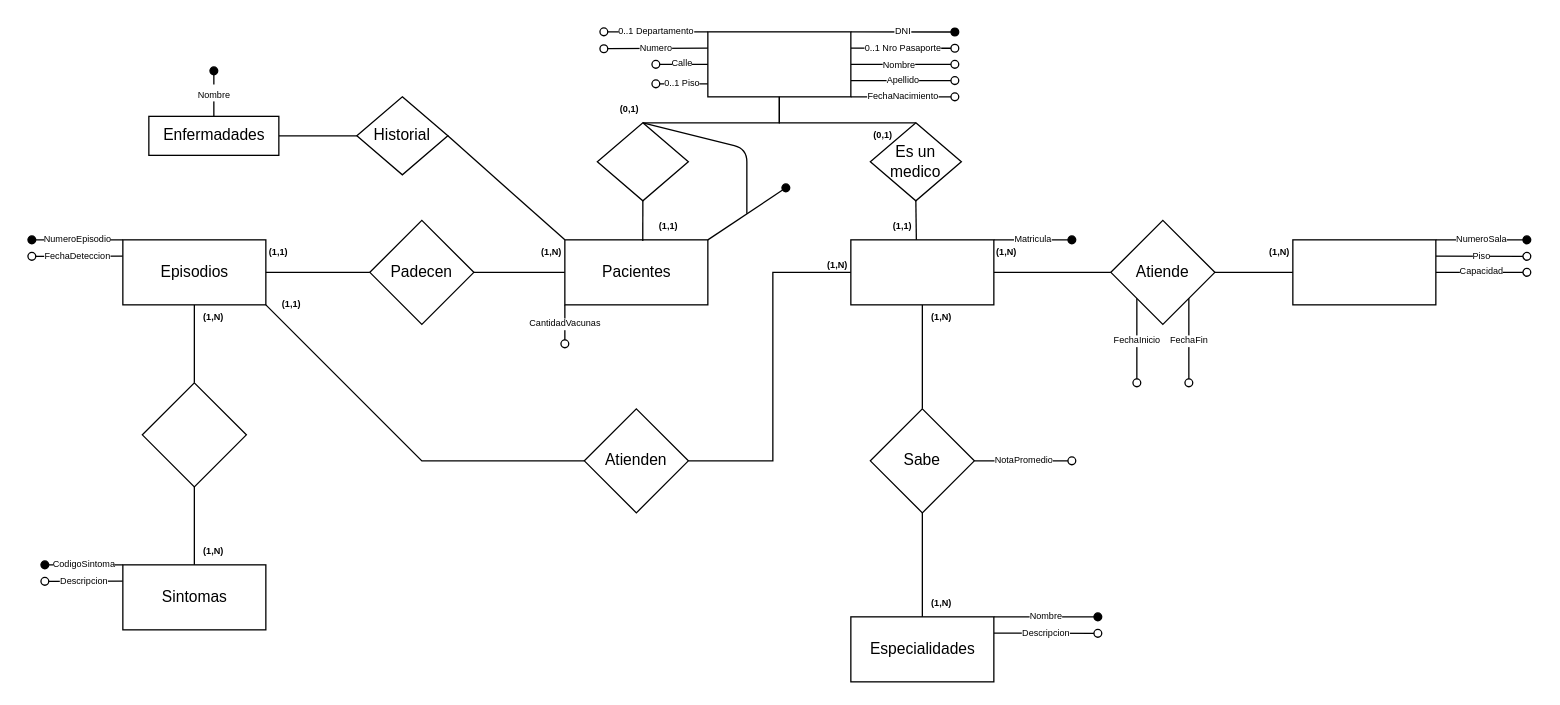
The diagram is 1560 pixels wide and 705 high, and some of its shapes have lost their labels. The centre of each missing label's shape, as x and y in pixels:
"Es un paciente" goes at point (642, 161).
"Medicos" goes at point (922, 272).
"Personas" goes at point (779, 64).
"Salas" goes at point (1364, 272).
"Tienen" goes at point (193, 434).
